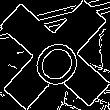O_NE: (22, 22, 88, 88)
